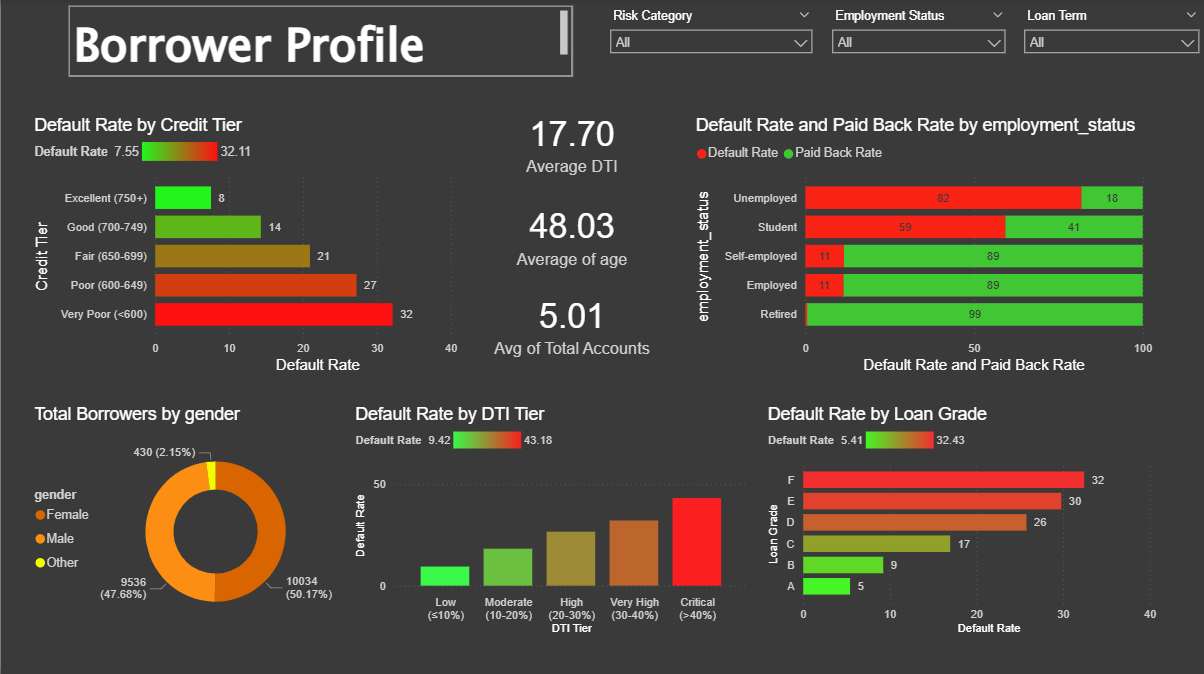

The dashboard page shown, as its layout file describes it:
{"tool":"powerbi","page":{"name":"Borrowers Profile","canvas":[1280,720],"ordinal":2},"visuals":[{"type":"slicer","fields":{"Values":["public applicants.employment_status"]},"box":[871.7,6.4,203.6,76.3],"z":0},{"type":"slicer","fields":{"Values":["public loan_applications.loan_term"]},"box":[1075.3,6.4,205.2,76.3],"z":1000},{"type":"slicer","fields":{"Values":["public loan_applications.Risk Category"]},"box":[636.2,6.4,233.8,74.8],"z":2000},{"type":"textbox","box":[71.6,8,534.4,74.8],"z":3000},{"type":"clusteredBarChart","fields":{"Y":["_Measures.Default Rate"],"Category":["public financial_profile.Credit Tier"]},"box":[30.2,124.1,489.9,278.4],"z":4000},{"type":"clusteredColumnChart","fields":{"Category":["public financial_profile.DTI Tier"],"Y":["_Measures.Default Rate"]},"box":[370.6,431.1,426.3,248.1],"z":5000},{"type":"barChart","fields":{"Y":["_Measures.Default Rate","_Measures.Paid Back Rate"],"Category":["public applicants.employment_status"]},"box":[731.7,124.1,494.7,278.4],"z":6000},{"type":"clusteredBarChart","fields":{"Category":["public loan_applications.Loan Grade"],"Y":["_Measures.Default Rate"]},"box":[808,431.1,448.6,248.1],"z":7000},{"type":"donutChart","fields":{"Y":["_Measures.Total Borrowers"],"Category":["public applicants.gender"]},"box":[30.2,431.1,327.7,248.1],"z":7001},{"type":"card","fields":{"Values":["_Measures.Average DTI"]},"box":[507.4,98.6,195.6,108.2],"z":7002},{"type":"card","fields":{"Values":["Avg(public applicants.age)"]},"box":[507.4,206.8,195.6,87.5],"z":7003},{"type":"card","fields":{"Values":["Avg(public credit_history.num_of_open_accounts)"]},"box":[507.4,294.3,195.6,101.8],"z":7004}]}

Visuals, with their boxes in screenshot pixels (x1, y1, x2, y2), scaled from the page's 1280x720 canvas onto the 1204x674 screenshot:
slicer - public applicants.employment_status: bbox=[820, 6, 1011, 77]
slicer - public loan_applications.loan_term: bbox=[1011, 6, 1203, 77]
slicer - public loan_applications.Risk Category: bbox=[598, 6, 818, 76]
textbox: bbox=[67, 7, 570, 78]
clusteredBarChart - _Measures.Default Rate x public financial_profile.Credit Tier: bbox=[28, 116, 489, 377]
clusteredColumnChart - public financial_profile.DTI Tier x _Measures.Default Rate: bbox=[349, 404, 750, 636]
barChart - _Measures.Default Rate x _Measures.Paid Back Rate: bbox=[688, 116, 1154, 377]
clusteredBarChart - public loan_applications.Loan Grade x _Measures.Default Rate: bbox=[760, 404, 1182, 636]
donutChart - _Measures.Total Borrowers x public applicants.gender: bbox=[28, 404, 337, 636]
card - _Measures.Average DTI: bbox=[477, 92, 661, 194]
card - Avg(public applicants.age): bbox=[477, 194, 661, 275]
card - Avg(public credit_history.num_of_open_accounts): bbox=[477, 275, 661, 371]
